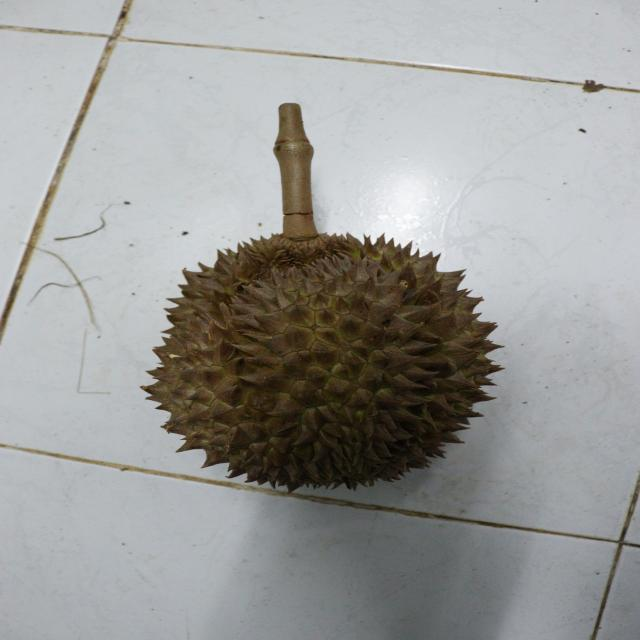mature: (142, 227, 512, 493)
